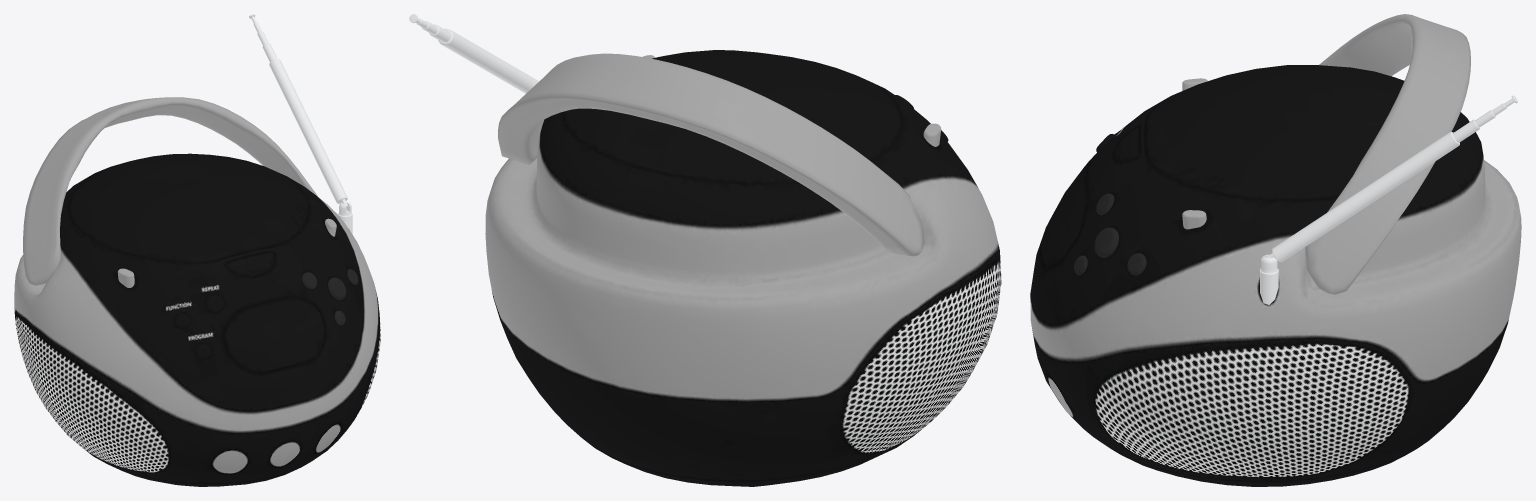
Rendered from BoomBox.glb.
3 views of the same model, side by side, from view 1: azimuth 30°, elevation 25°; view 2: azimuth 150°, elevation 25°; view 3: azimuth 270°, elevation 25° (orthographic). The views are drawn at different scales.
Parts seen in each view (by area): view 1: BoomBox; view 2: BoomBox; view 3: BoomBox.
Boxes of the visible parts, <box> form: BoomBox: <box>14,14,380,486</box>; BoomBox: <box>409,14,1001,486</box>; BoomBox: <box>1030,14,1521,486</box>.
Bounding box in the file's own units: 0.0198 × 0.0195 × 0.0202.
Materials: 1 (1 with a texture image).
